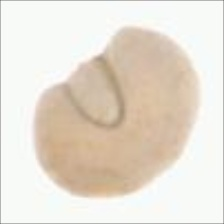L5: (61, 53, 127, 131), (137, 137, 190, 192)
L6: (32, 23, 201, 200)
